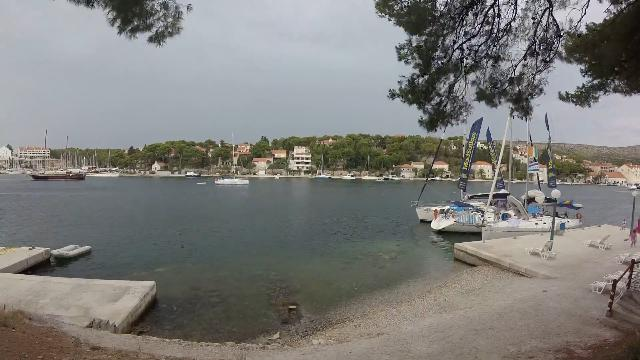Freighter: (16, 164, 92, 186)
Sailboat: (206, 169, 254, 189)
